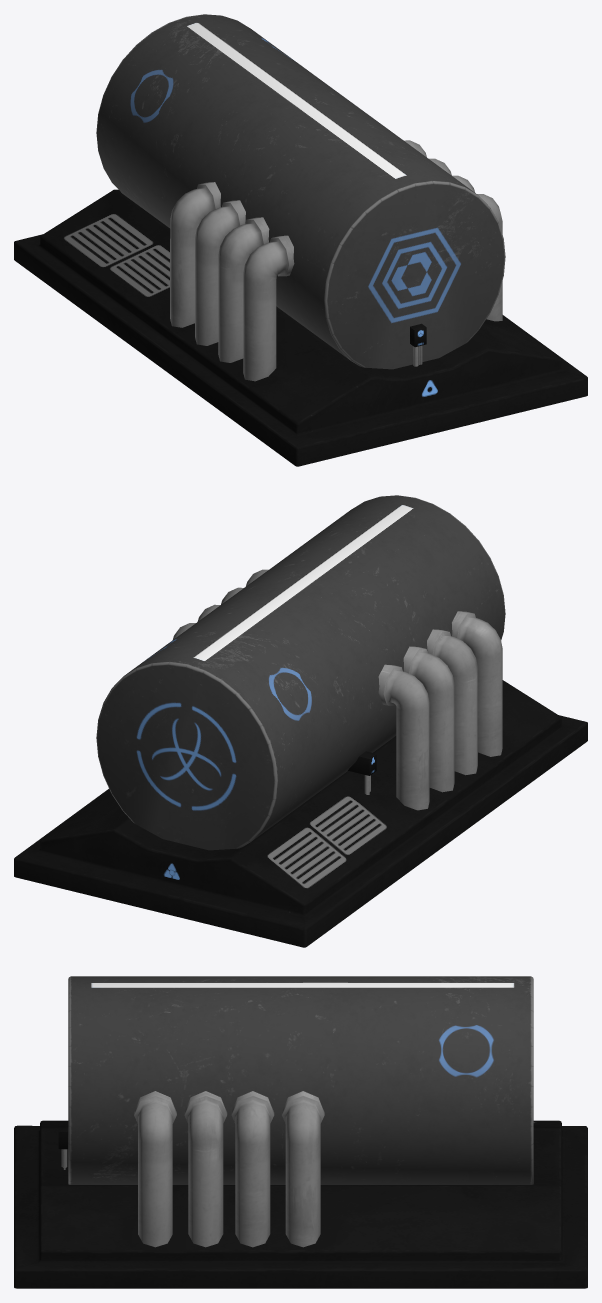
The model's file is WaterFilterSystem.fbx.
3 views of the same model, one above another, from view 1: azimuth 30°, elevation 25°; view 2: azimuth 150°, elevation 25°; view 3: azimuth 270°, elevation 25° (orthographic).
Parts seen in each view (by area): view 1: BigTank; view 2: BigTank; view 3: BigTank.
Part boxes in pixels (<box>): BigTank: <box>14,14,587,466</box>; BigTank: <box>14,495,587,947</box>; BigTank: <box>14,976,587,1288</box>.
Size of the model in its own units: 233 by 173 by 392.
1 material, 1 textured.
